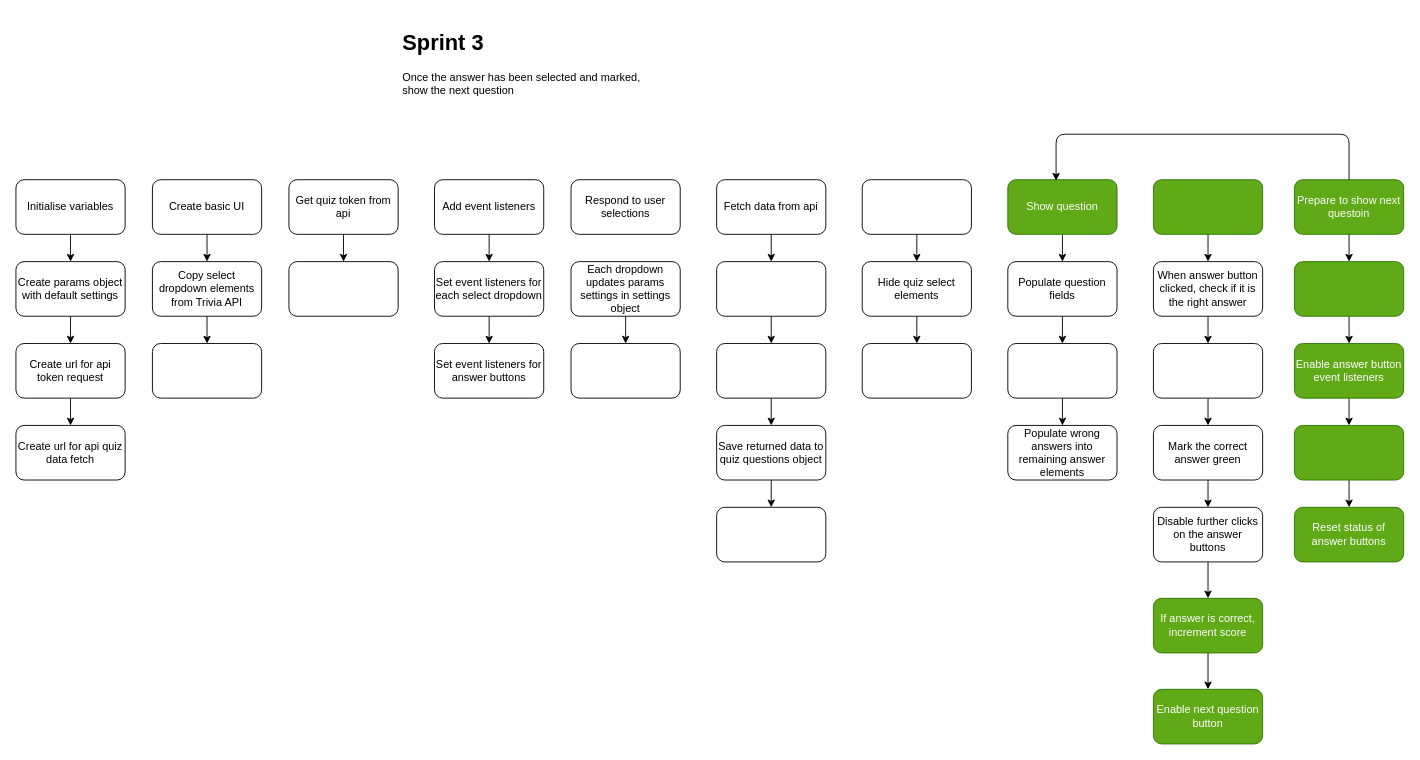
Some shapes in this 1420 by 760 pixel diagram are drawn without their labels. The centre of each missing label's shape, as x and y in pixels:
Build param string from settings object: the point at 771,288
fetch from api token url: the point at 343,288
Fetch from url using param string: the point at 771,370
Get answer: the point at 1208,206
Hide next question button: the point at 1349,288
Hide question elements: the point at 207,370
If answer is wrong mark the provided answer red: the point at 1208,370
If selection is 'Any' remove param from settings object: the point at 625,370
Increment question number: the point at 1349,452
Log returned data: the point at 771,534
Populate correct answer into random answer element: the point at 1062,370
Show question elements: the point at 916,370
Update UI: the point at 916,206
